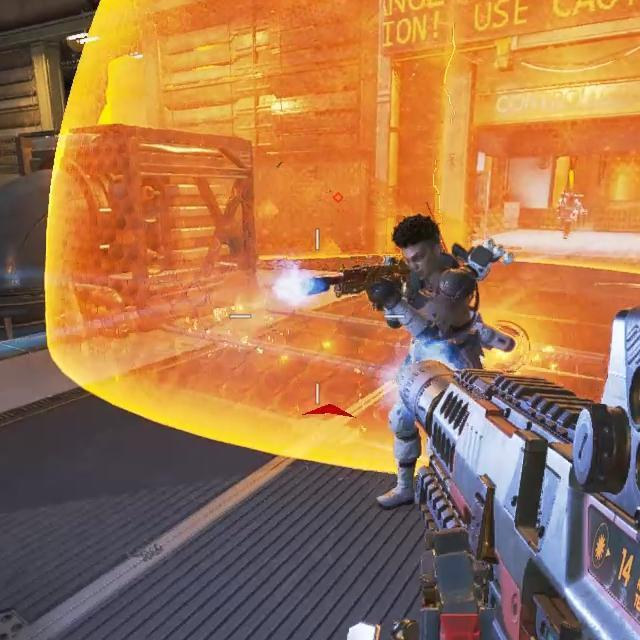avatar: (373, 212, 487, 510)
